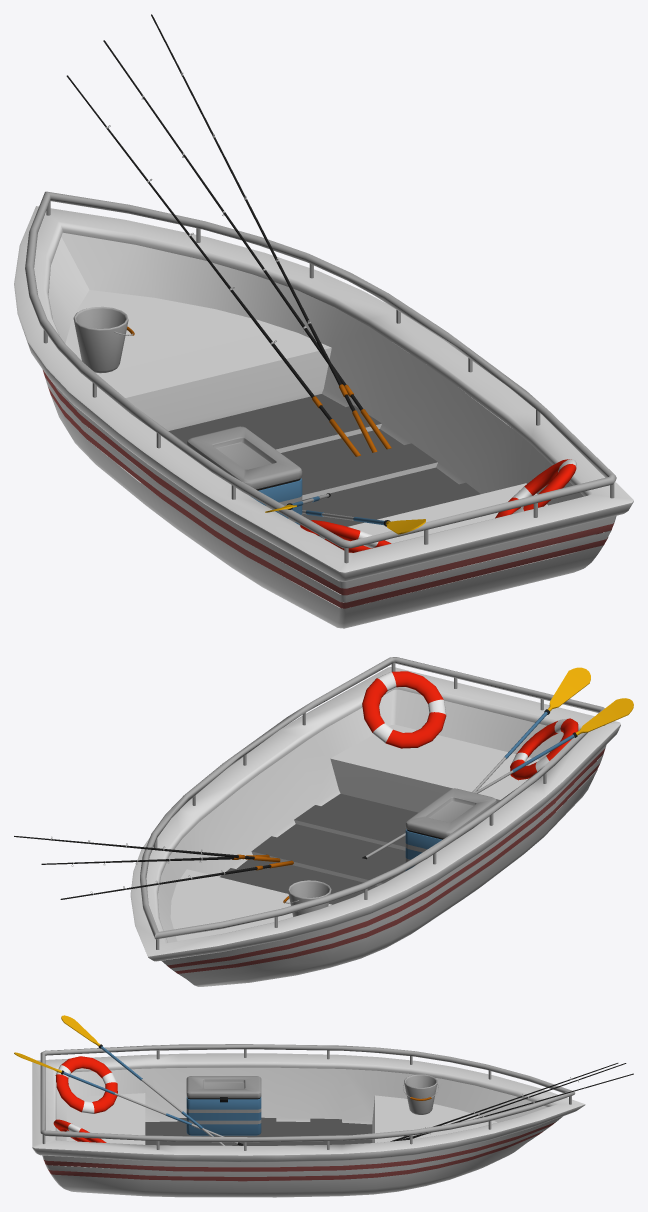
File: barca.glb
3 views of the same model, one above another, from view 1: azimuth 30°, elevation 25°; view 2: azimuth 150°, elevation 25°; view 3: azimuth 270°, elevation 25° (orthographic). The views are drawn at different scales.
Parts seen in each view (by area): view 1: Boat_Boat White_0, Boat_Boat Gray_0, Boat_Metal_0, Boat_Boat Red_0, Box_Box Grey_0, Bucket_Metal_0, Fishing Rod_Plastic_0, Floater.001_Floater Red_0, Fishing Rod.002_Plastic_0, Fishing Rod.001_Plastic_0; view 2: Boat_Boat White_0, Boat_Boat Gray_0, Boat_Metal_0, Boat_Boat Red_0, Floater.001_Floater Red_0, Box_Box Grey_0, Floater_Floater Red_0, Bucket_Metal_0, Oar_Yellow_0, Oar.001_Yellow_0, Floater.001_Floater White_0, Fishing Rod_Plastic_0 (+3 smaller); view 3: Boat_Boat White_0, Boat_Metal_0, Boat_Boat Red_0, Boat_Boat Gray_0, Box_Box Grey_0, Box_Box Blue_0, Floater_Floater Red_0, Bucket_Metal_0, Fishing Rod_Plastic_0, Fishing Rod.001_Plastic_0, Floater_Floater White_0, Floater.001_Floater Red_0 (+3 smaller).
Part boxes in pixels (box(x1,y1,x2,y2)): Boat_Boat White_0: box(14, 206, 633, 628); Boat_Boat Gray_0: box(169, 394, 480, 526); Boat_Metal_0: box(25, 191, 616, 563); Boat_Boat Red_0: box(43, 370, 614, 608); Box_Box Grey_0: box(187, 426, 302, 522); Bucket_Metal_0: box(73, 306, 133, 373); Fishing Rod_Plastic_0: box(151, 14, 355, 411); Floater.001_Floater Red_0: box(495, 459, 576, 518); Fishing Rod.002_Plastic_0: box(66, 75, 331, 420); Fishing Rod.001_Plastic_0: box(103, 40, 363, 410); Boat_Boat White_0: box(130, 667, 620, 986); Boat_Boat Gray_0: box(220, 793, 417, 904); Boat_Metal_0: box(140, 657, 605, 949); Boat_Boat Red_0: box(167, 748, 605, 973); Floater.001_Floater Red_0: box(362, 671, 446, 748); Box_Box Grey_0: box(405, 788, 496, 865); Floater_Floater Red_0: box(510, 718, 578, 780); Bucket_Metal_0: box(284, 880, 331, 916); Oar_Yellow_0: box(547, 667, 590, 711); Oar.001_Yellow_0: box(576, 698, 633, 735); Floater.001_Floater White_0: box(373, 672, 446, 743); Fishing Rod_Plastic_0: box(14, 836, 254, 859); Boat_Boat White_0: box(32, 1053, 585, 1197); Boat_Metal_0: box(40, 1044, 575, 1150); Boat_Boat Red_0: box(44, 1122, 555, 1181); Boat_Boat Gray_0: box(145, 1117, 372, 1145); Box_Box Grey_0: box(186, 1076, 261, 1124); Box_Box Blue_0: box(186, 1097, 261, 1135); Floater_Floater Red_0: box(55, 1056, 117, 1113); Bucket_Metal_0: box(403, 1074, 438, 1114); Fishing Rod_Plastic_0: box(390, 1063, 618, 1141); Fishing Rod.001_Plastic_0: box(403, 1063, 626, 1140); Floater_Floater White_0: box(56, 1065, 116, 1113); Floater.001_Floater Red_0: box(53, 1119, 106, 1142).
Size of the model in its own units: 1.89 by 1.15 by 4.6.
